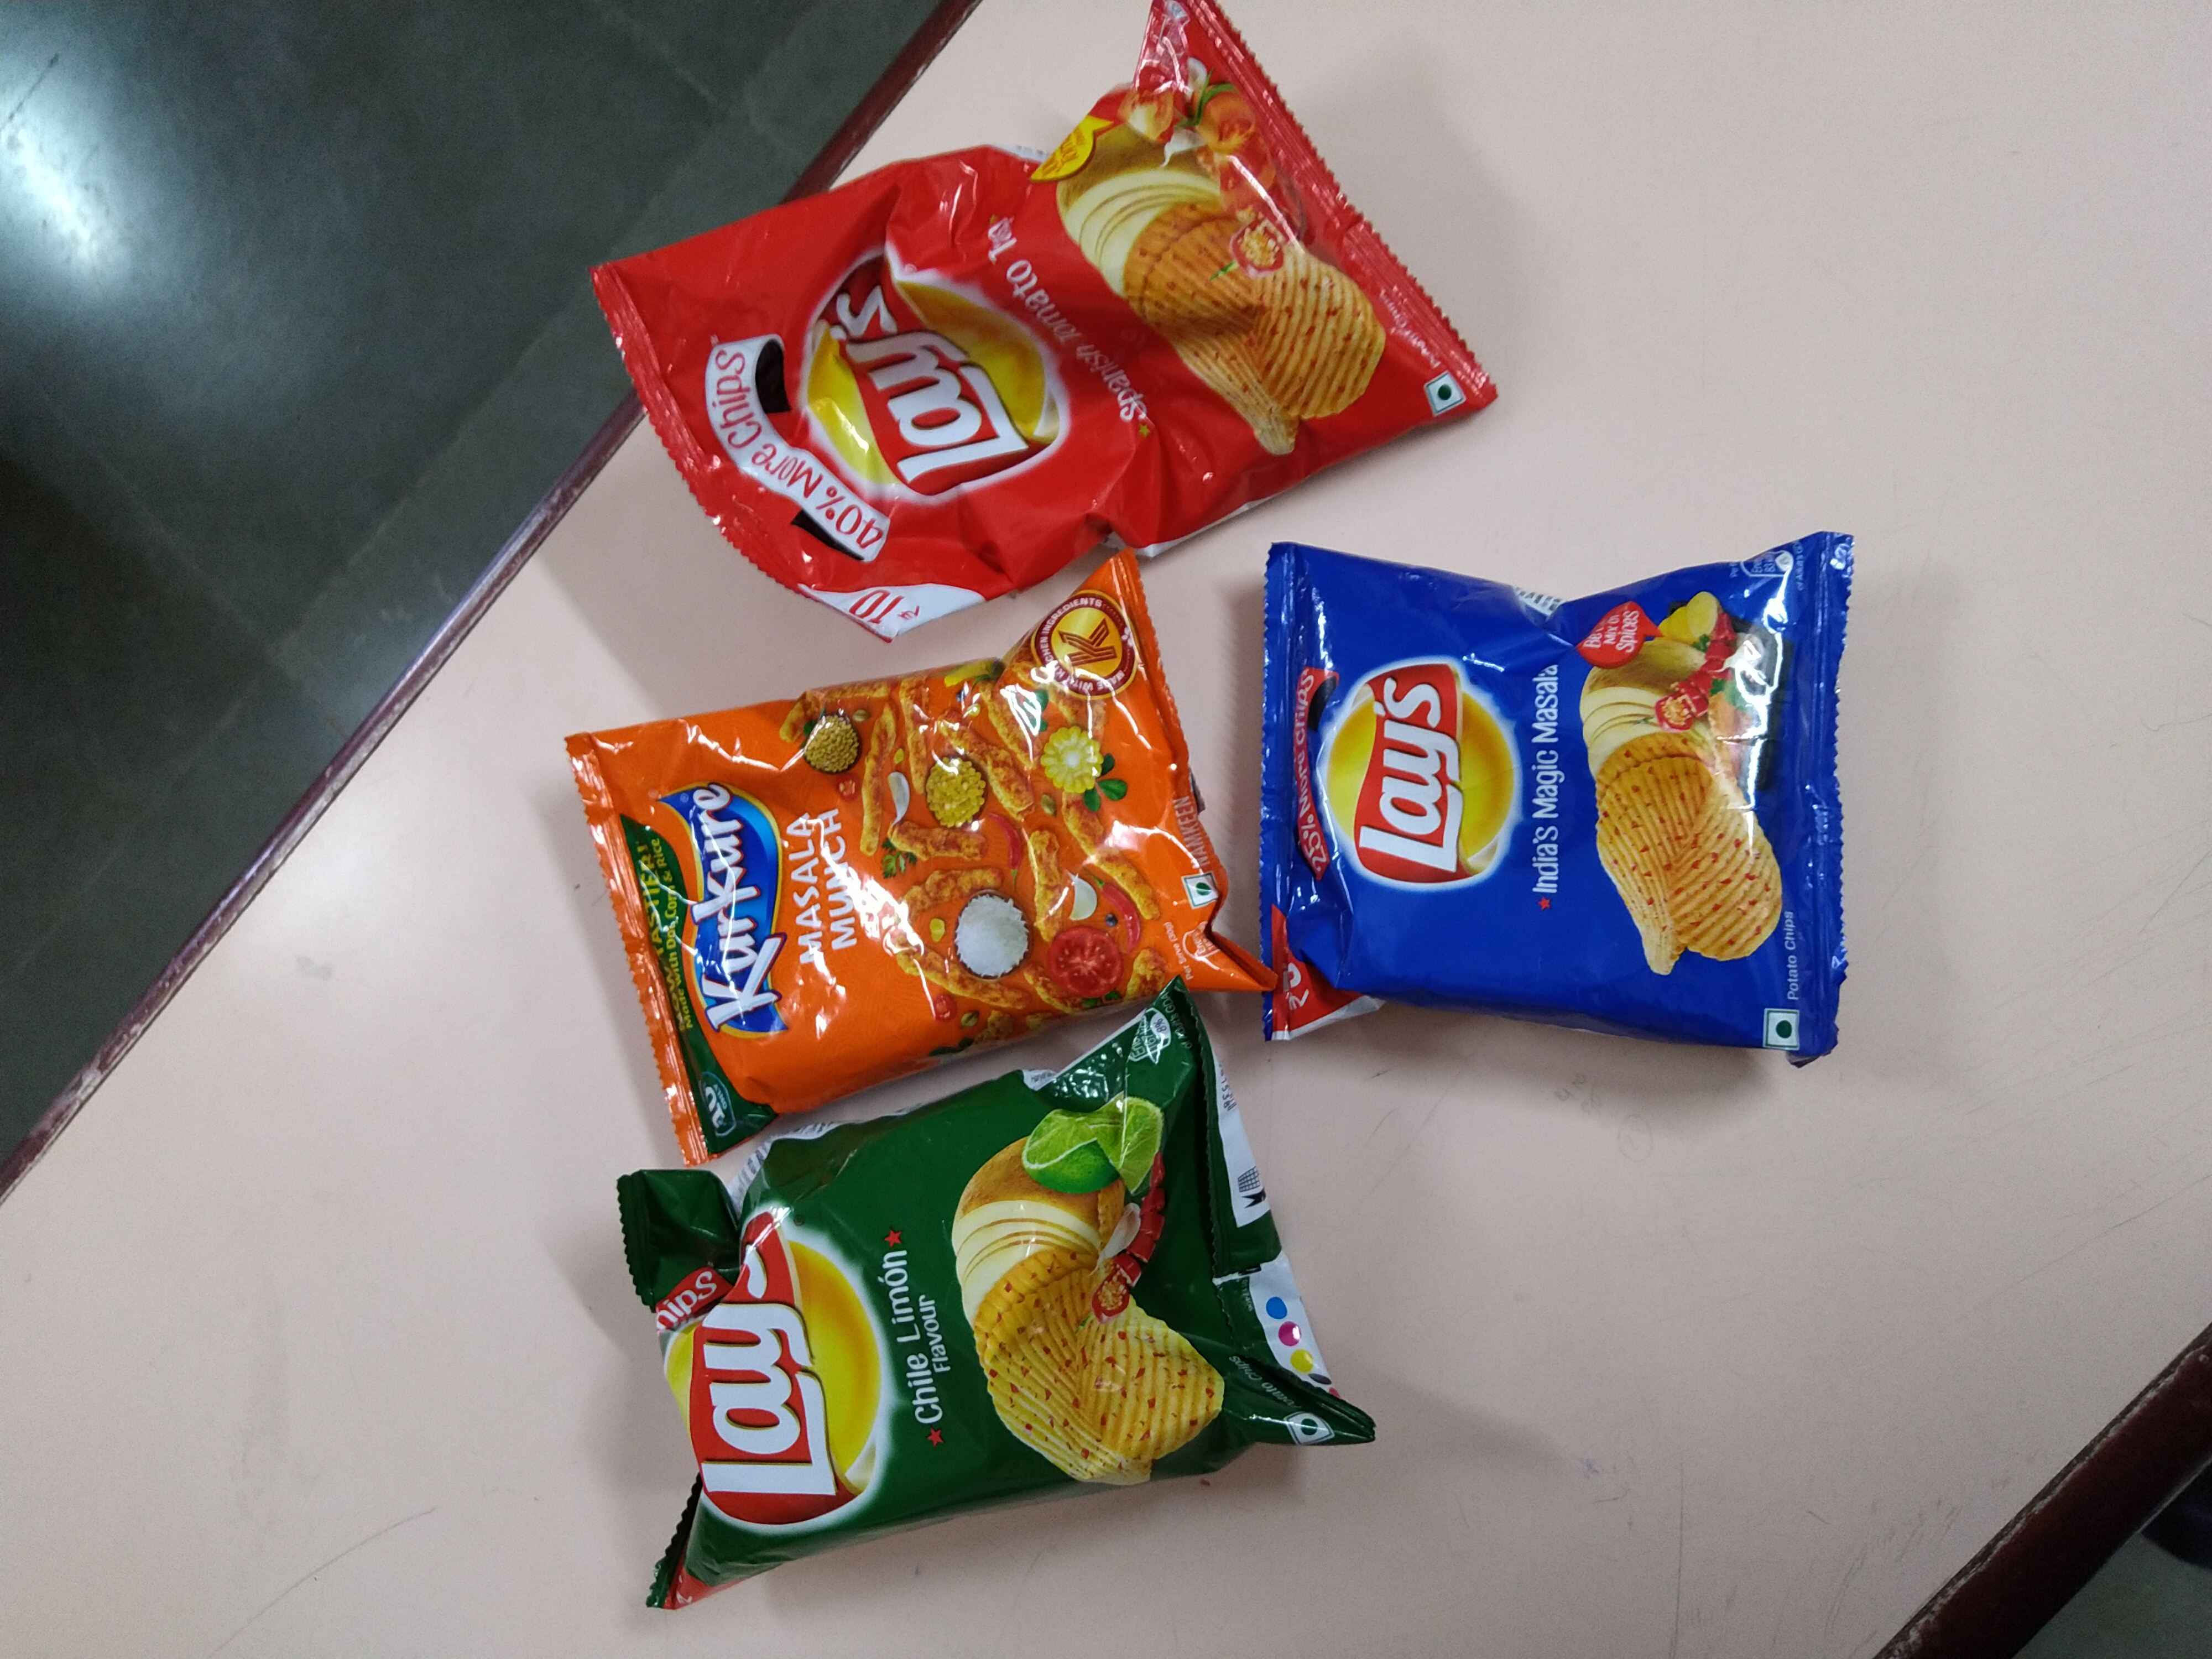Lays: (658, 1197, 909, 1513), (799, 218, 1078, 491), (1324, 652, 1531, 901)
kurkure: (665, 765, 805, 1049)
